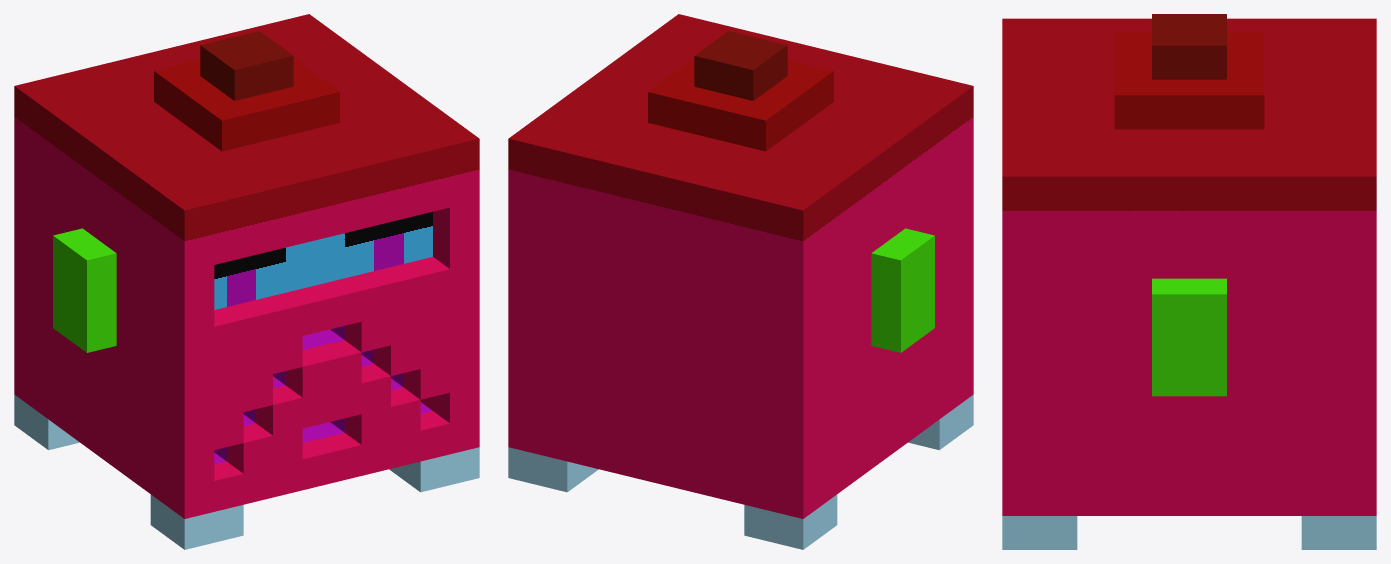
Rendered from Fass.fbx.
3 views of the same model, side by side, from view 1: azimuth 30°, elevation 25°; view 2: azimuth 150°, elevation 25°; view 3: azimuth 270°, elevation 25° (orthographic). The views are drawn at different scales.
Parts seen in each view (by area): view 1: Fass; view 2: Fass; view 3: Fass.
Part boxes in pixels (<box>): Fass: <box>14,14,479,549</box>; Fass: <box>508,14,973,549</box>; Fass: <box>1002,14,1376,549</box>.
Bounding box in the file's own units: 12 × 13 × 10.
